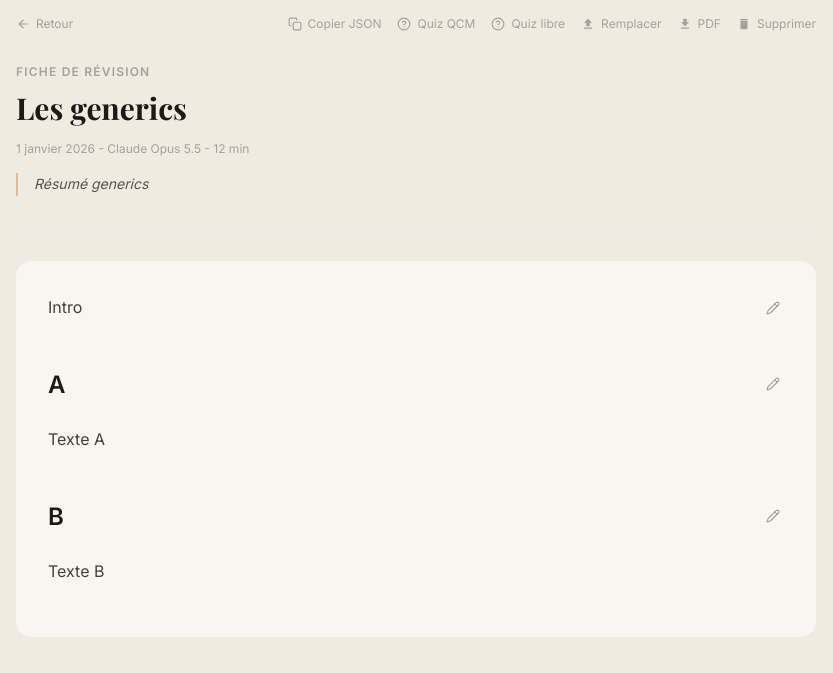
Test case: FlashCardDetailPage section editing › disables Remplacer while editing
The width and height of the screenshot is (833, 673).
Click the button named "Modifier la section « B »" at (773, 516), box [762,505,784,527]
(page scrolled)
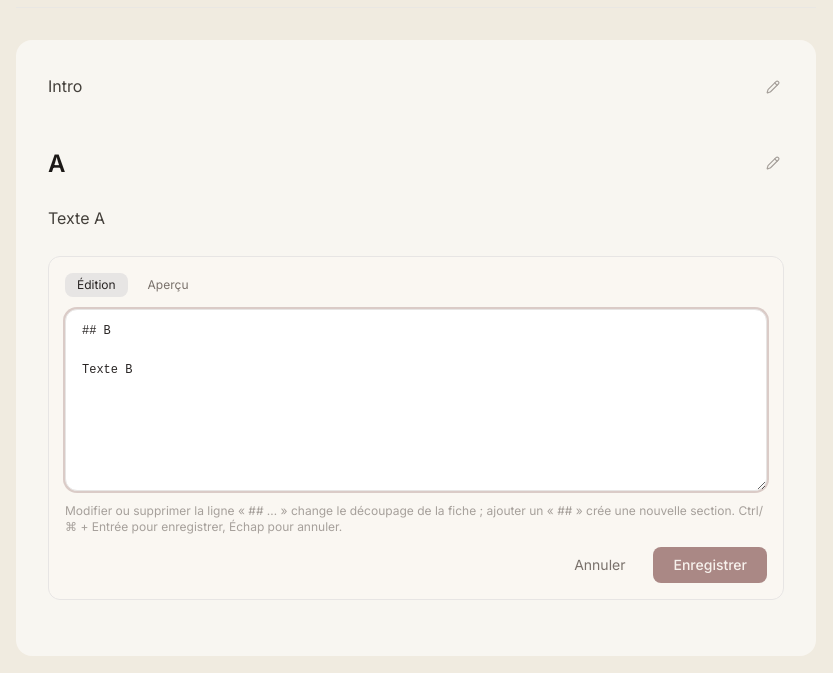
Click the button "Annuler" at (600, 565), box [558,547,642,583]
(page scrolled)
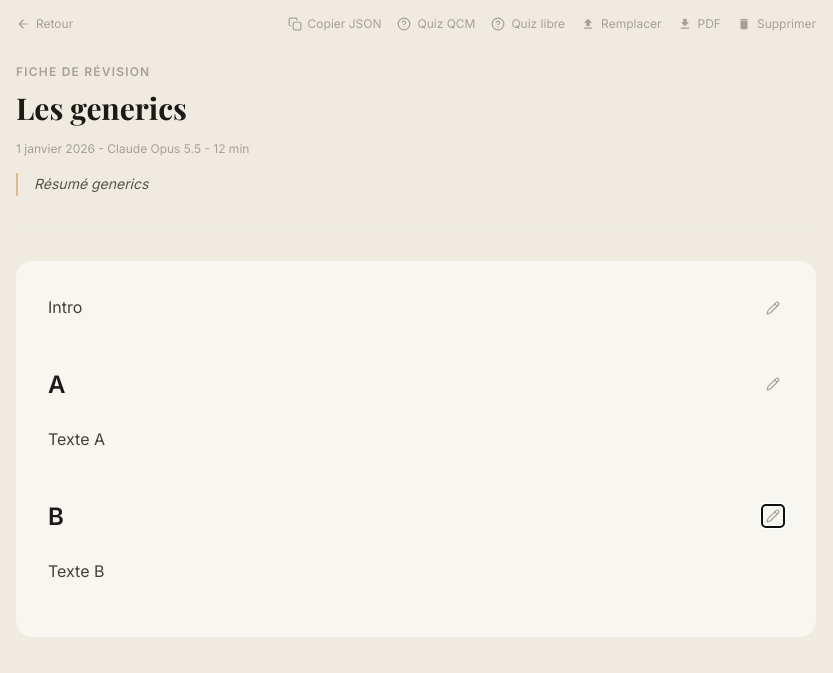
Expected: the button "Remplacer" is enabled, [581,16,662,32]
